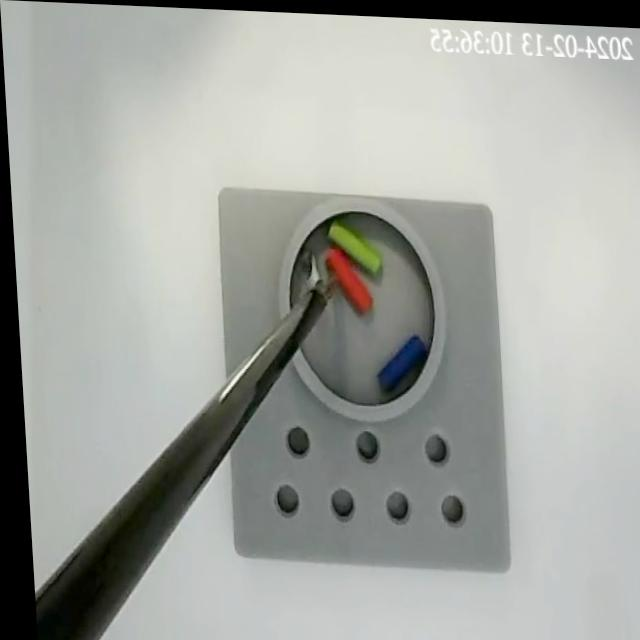EmptyHole: (266, 477, 298, 522), (378, 482, 411, 525), (432, 486, 464, 528), (278, 420, 310, 458), (416, 426, 446, 465), (323, 482, 355, 518), (348, 427, 376, 461)
